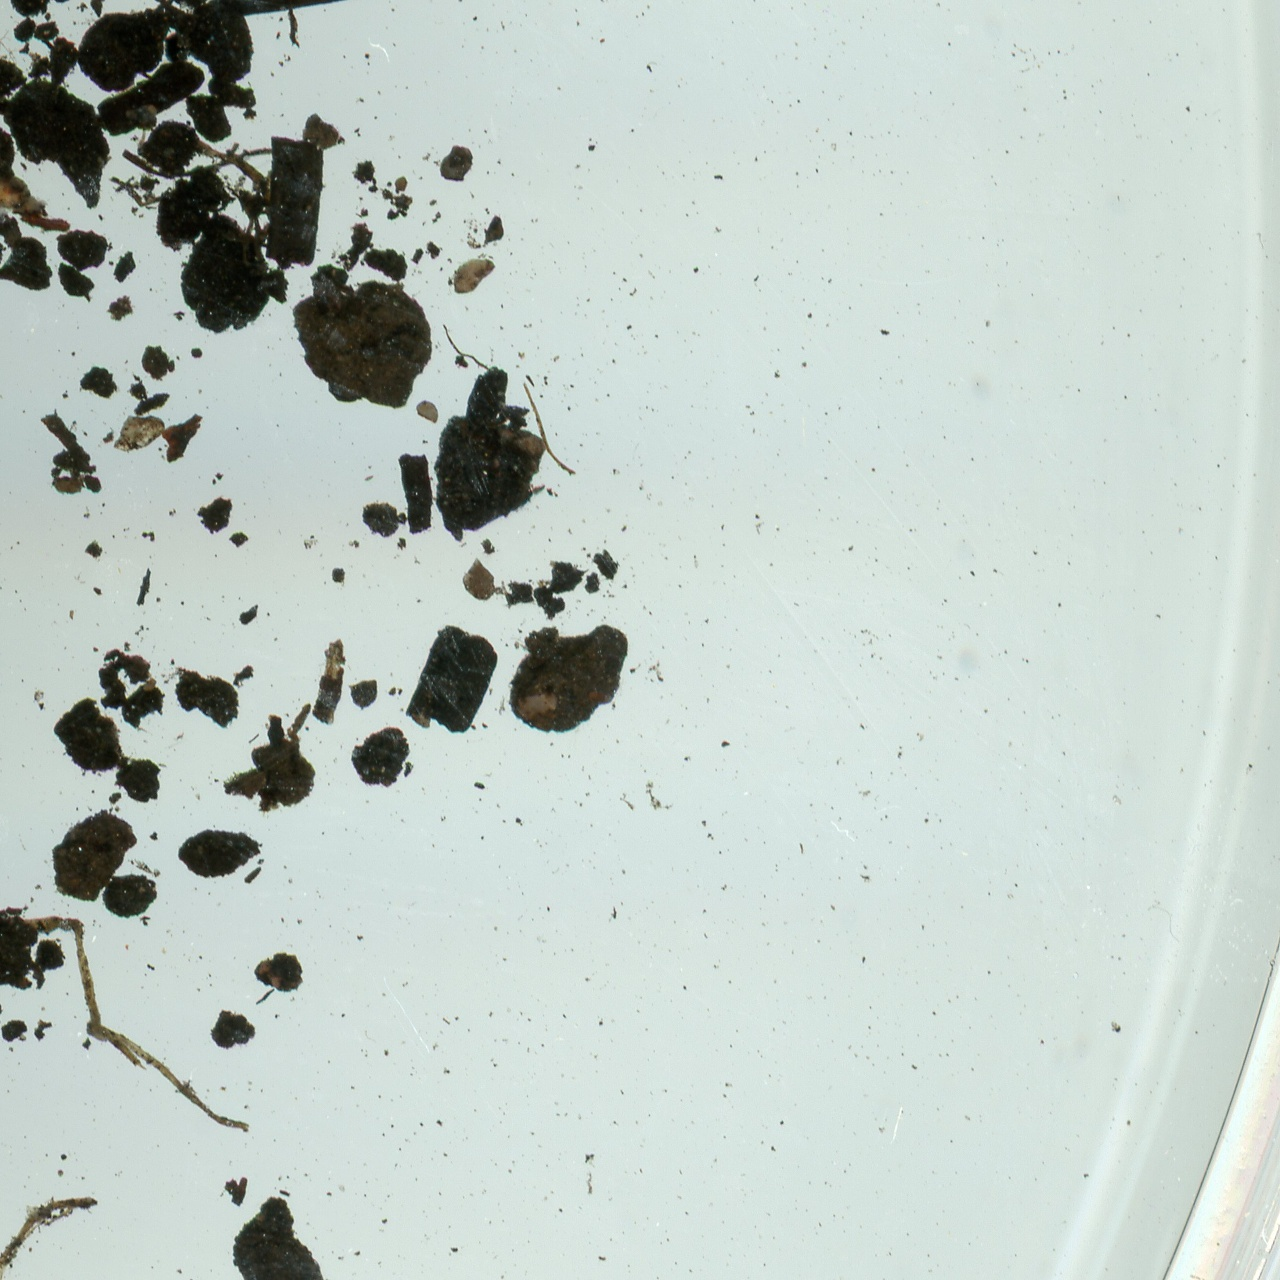arthropod: (0, 162, 55, 227)
